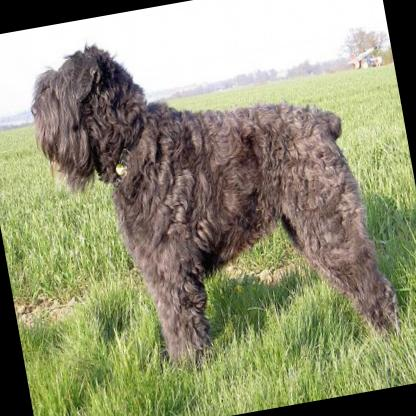Bouvier_des_Flandres: (13, 0, 412, 399)
